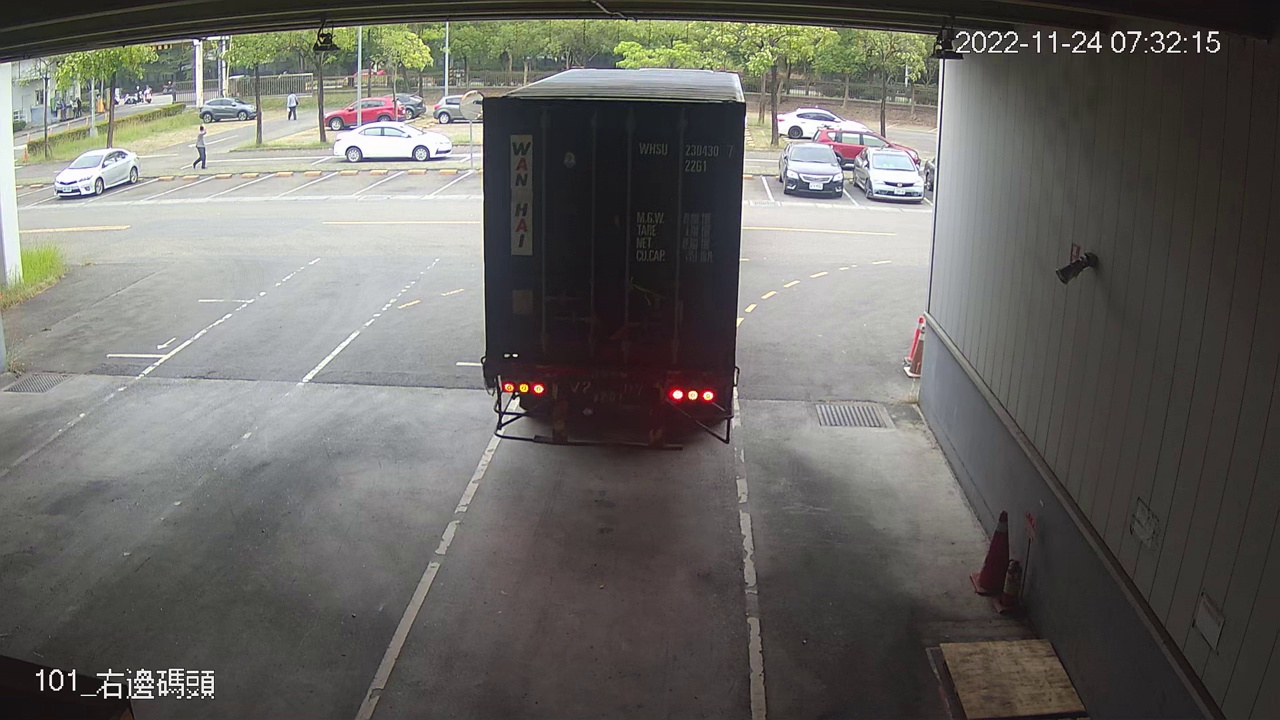container: (633, 135, 738, 177)
